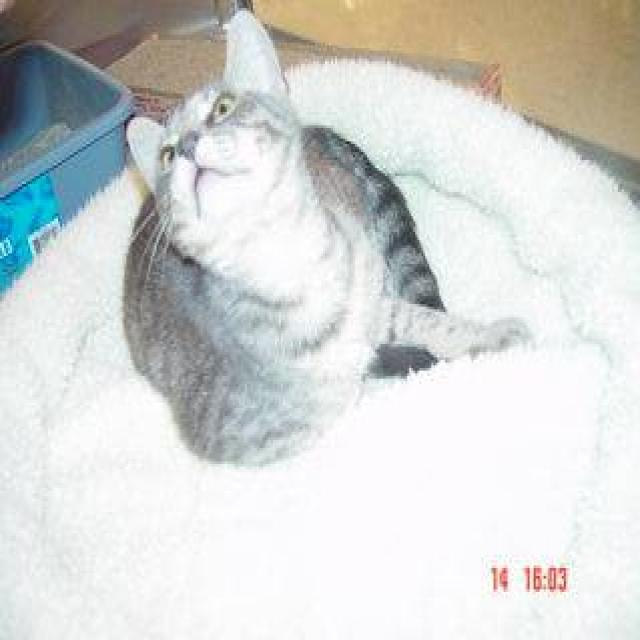cat: (118, 5, 532, 467)
